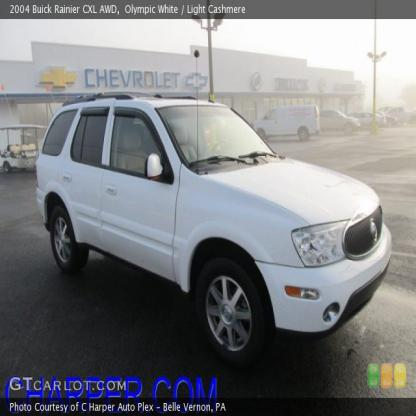Vehicle: (37, 93, 397, 365)
